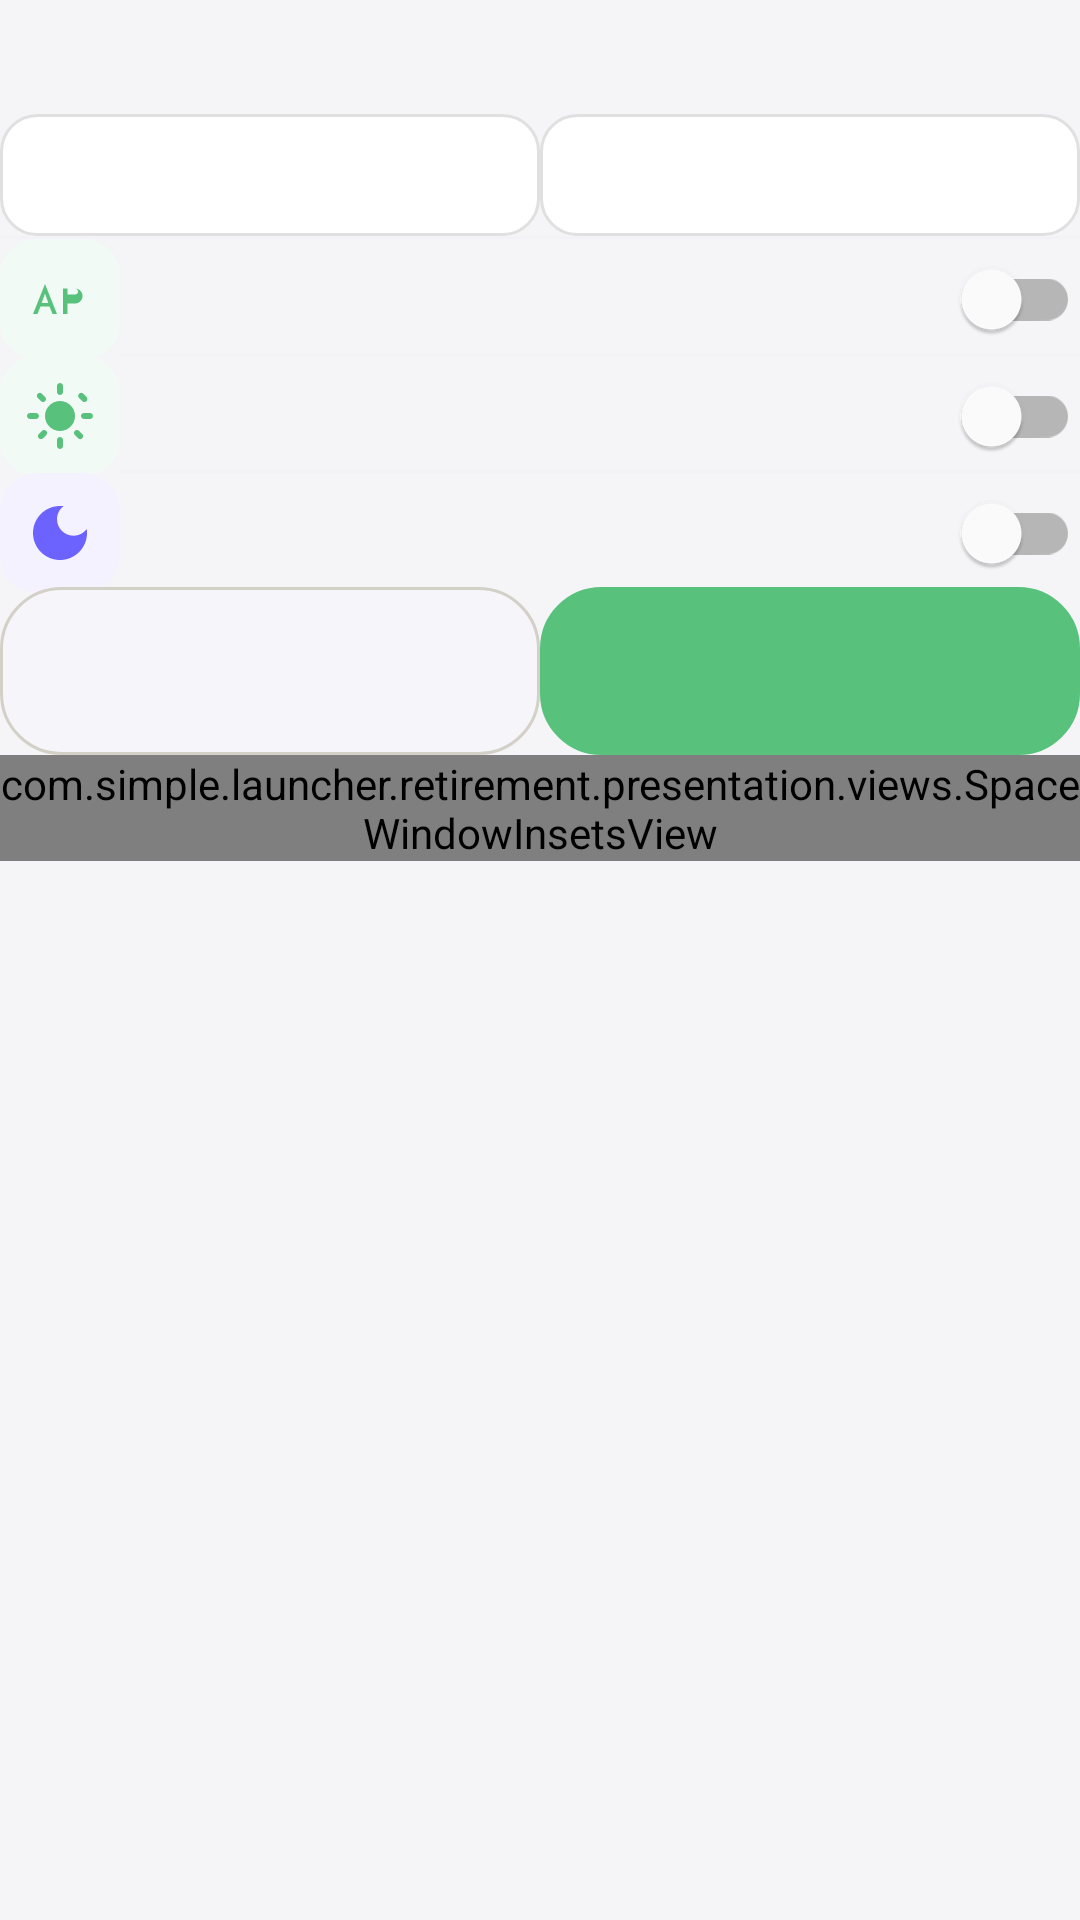

Where icons sit on this 1080×1920 app screen, as bbox(x1, y1, x2, y2):
moon: bbox(33, 506, 87, 560)
sun: bbox(27, 383, 93, 449)
